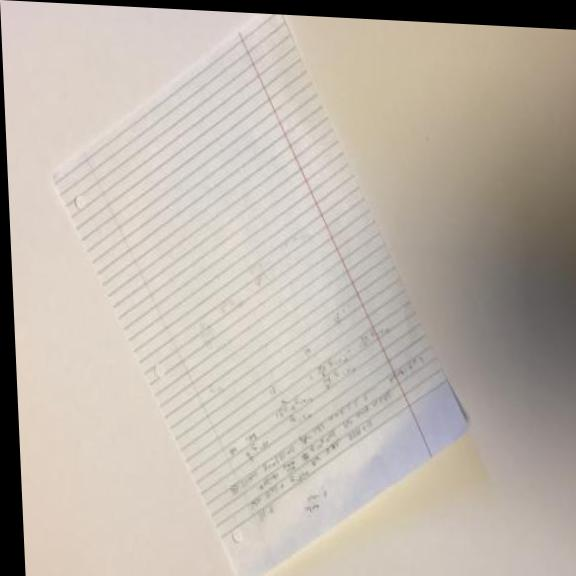Kertas: (42, 12, 477, 576)
